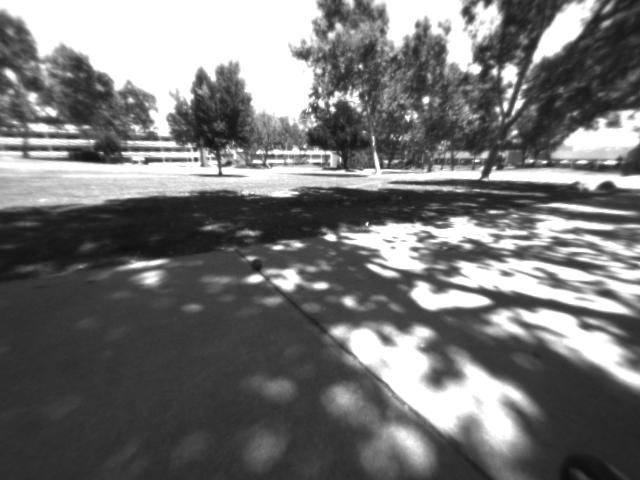dogtoy: (244, 253, 270, 276)
